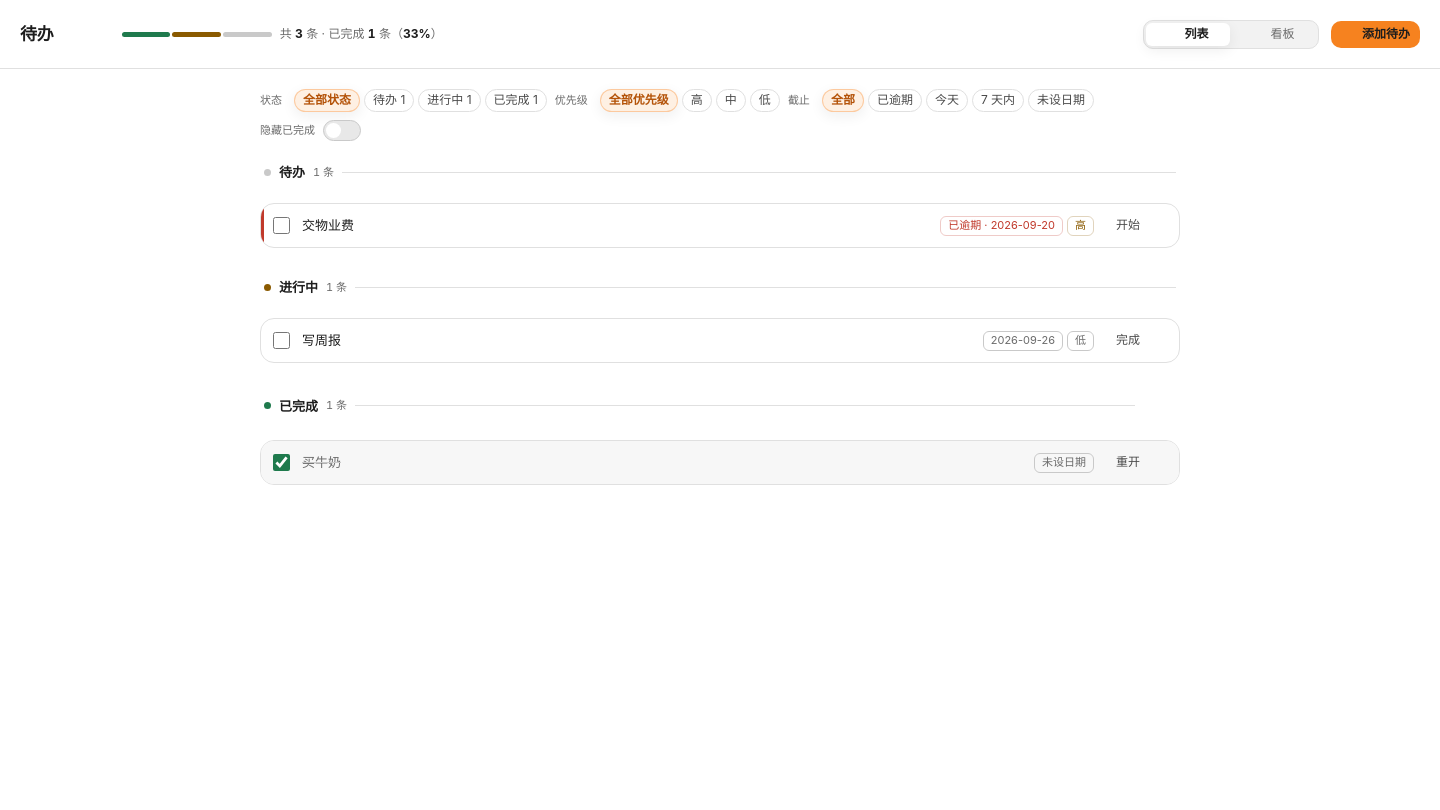
Test: 详情浮层（v0.5.2；原型 `.tdetail`） › 点清单行标题打开详情：面板出现、这一条被标为选中、标题按钮 aria-expanded 为真
The image size is (1440, 810).
Step 1. Click the button "交物业费" → {"x": 328, "y": 225}, box [302,216,928,235]
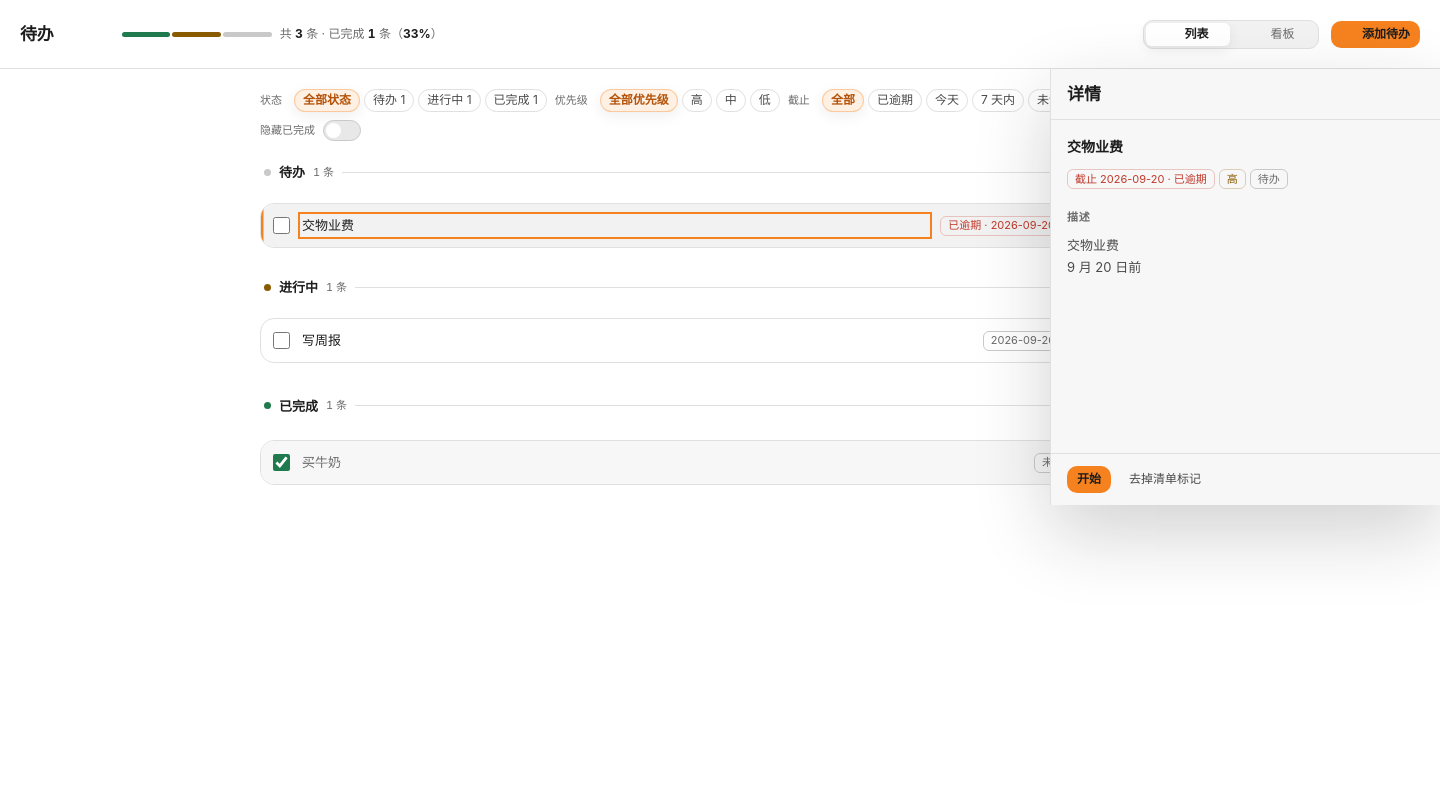
Result: the element with class "tdetail" is shown at [1050,69,1439,505]
